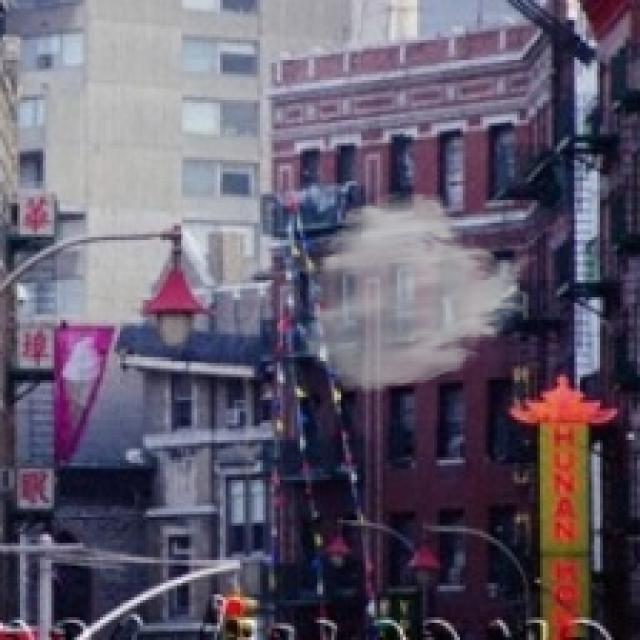Smoke: (297, 188, 537, 394)
